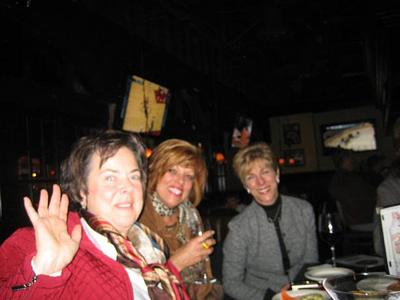person: (1, 131, 190, 300)
